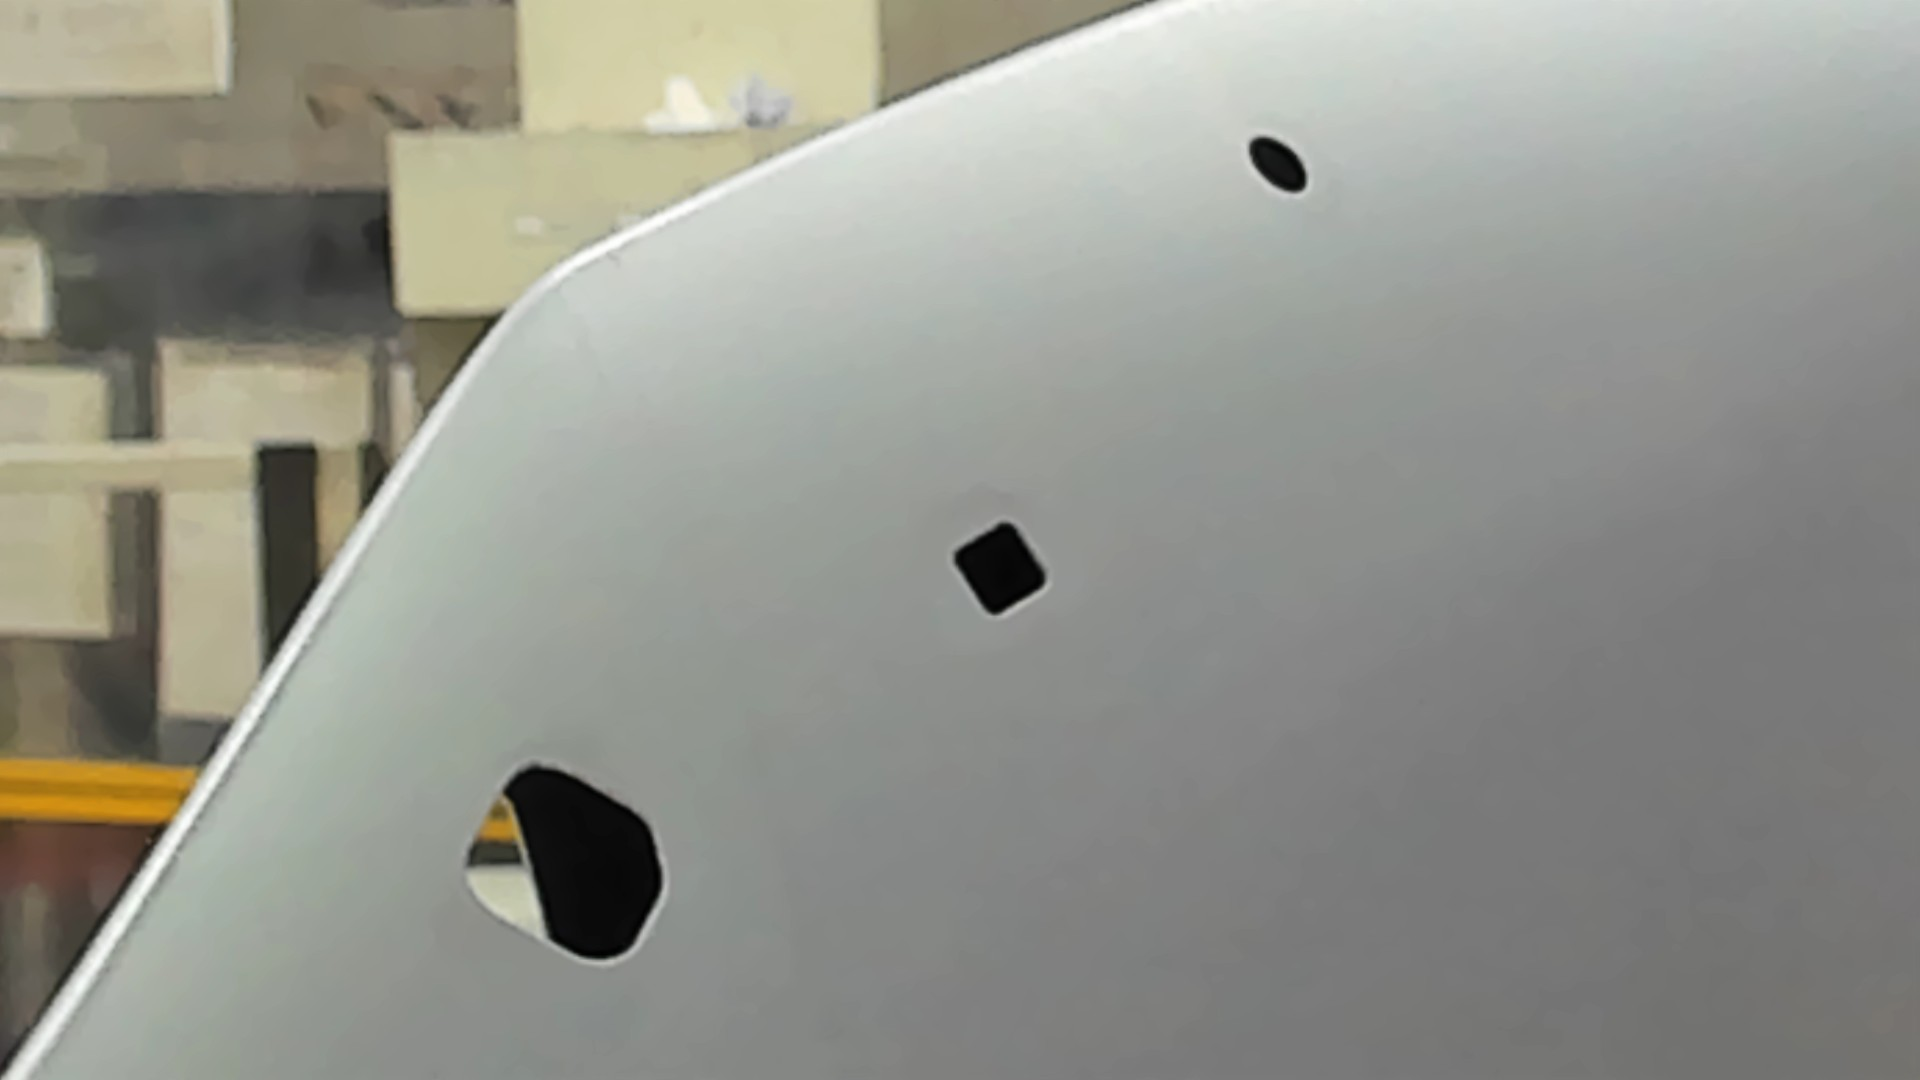capo: (1054, 204, 1920, 1080)
chico: (1245, 132, 1315, 199)
grande: (465, 758, 669, 973)
mediano: (952, 520, 1055, 622)
